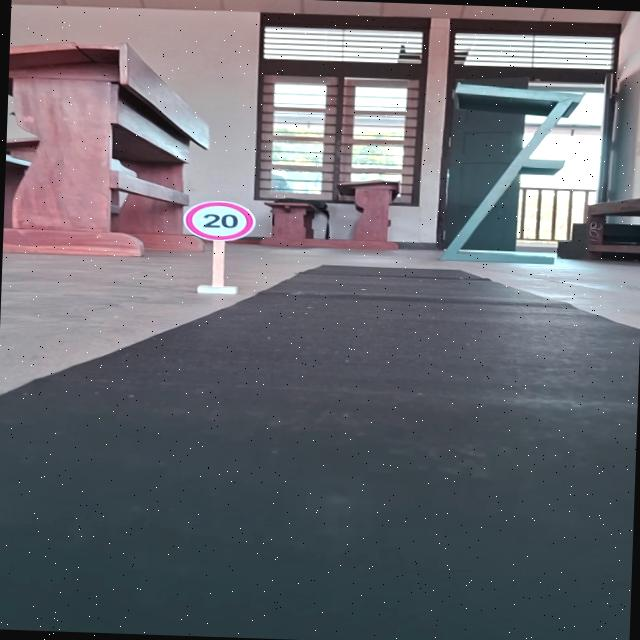Speed20: (179, 196, 259, 243)
